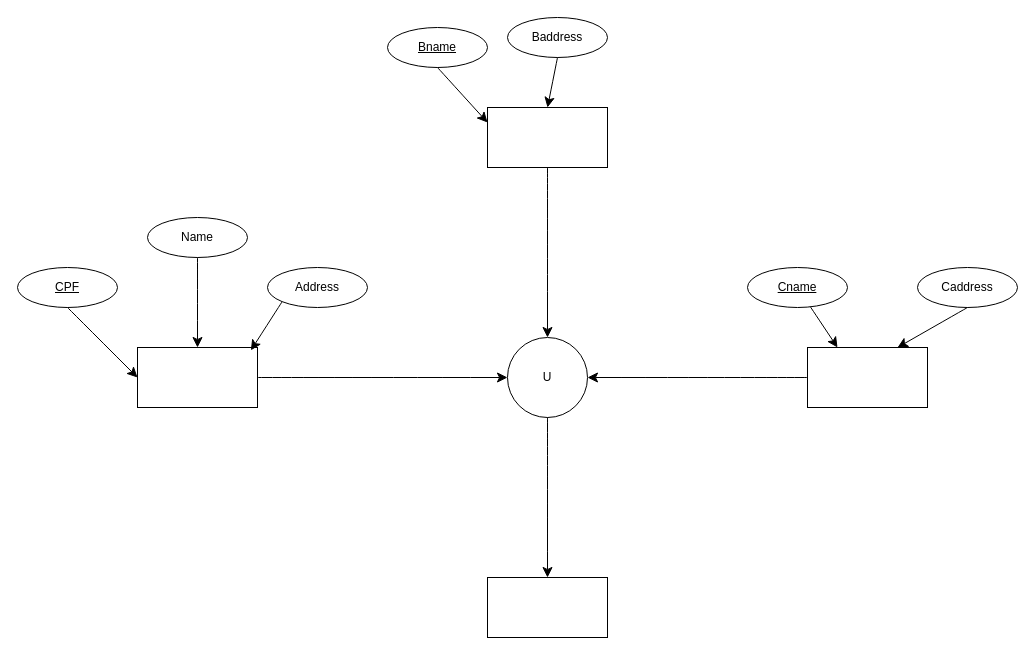
Image size: 1035x655. Some labels were removed from this diagram. The centre of each missing label's shape, as x and y in pixels:
Bank: the point at 547,137
Company: the point at 867,377
Owner: the point at 547,607
Person: the point at 197,377
